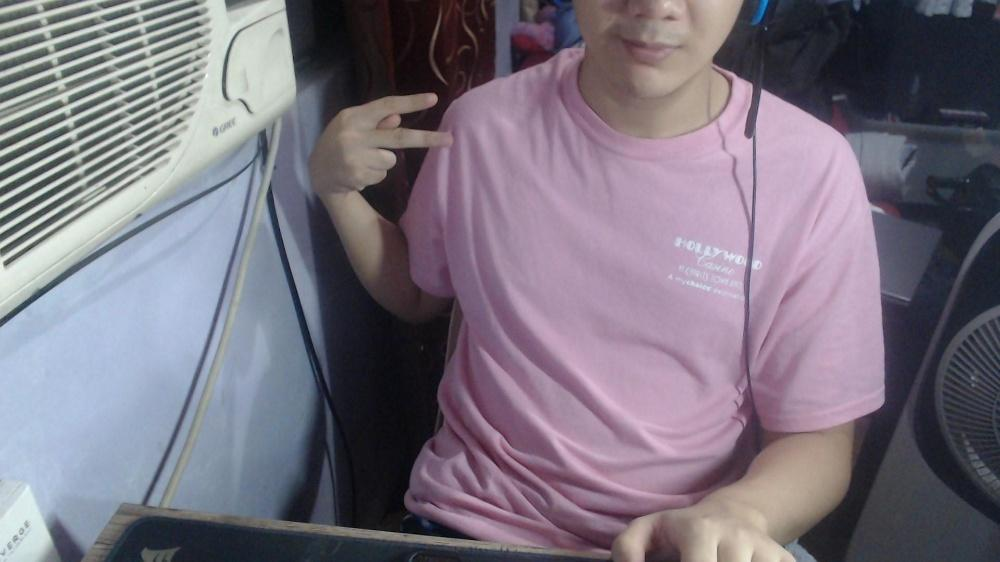k: (306, 90, 454, 192)
